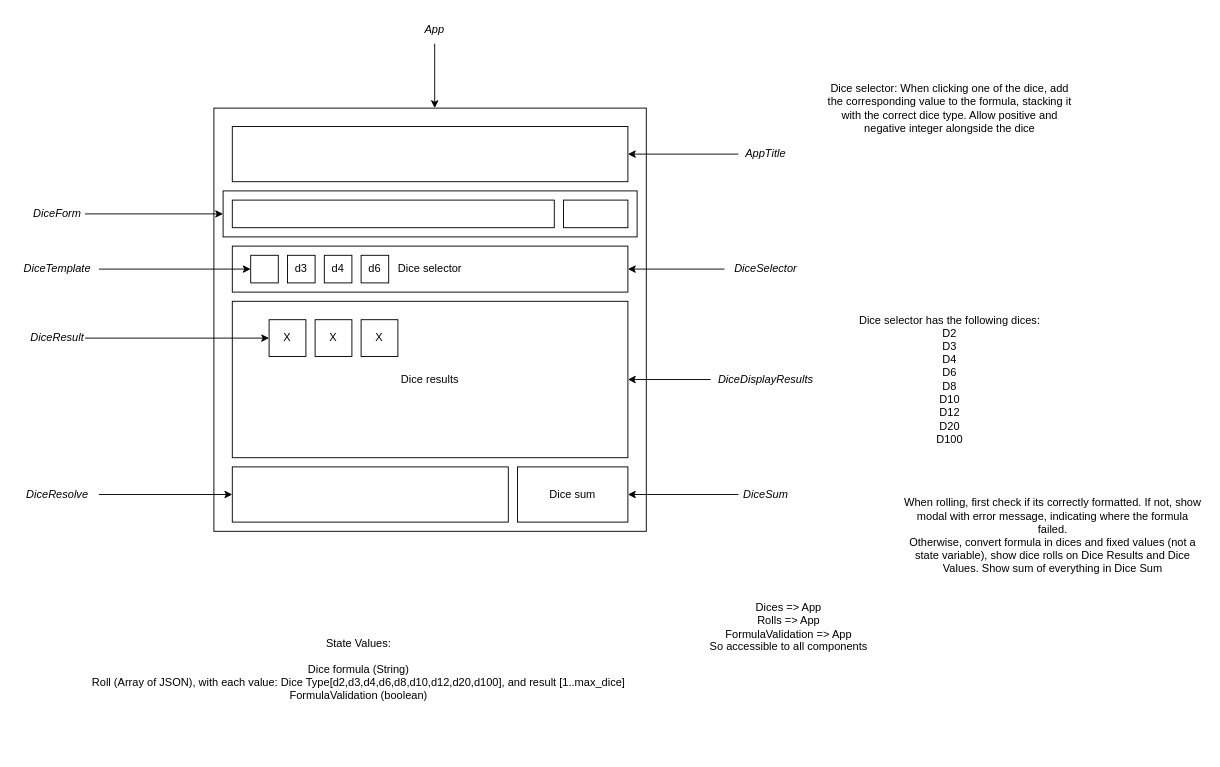
This 1220x767 diagram has some shape labels left out. Each missing label, with the centre of its shape:
"d2" belongs at (264,268).
"Dice formula" belongs at (392,213).
"Dice roller online" belongs at (429,154).
"Dice values" belongs at (369,494).
"Roll button" belongs at (595,213).
